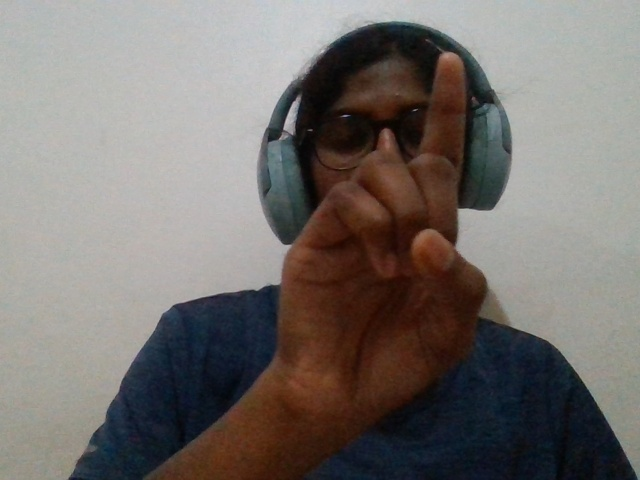D: (249, 46, 500, 438)
